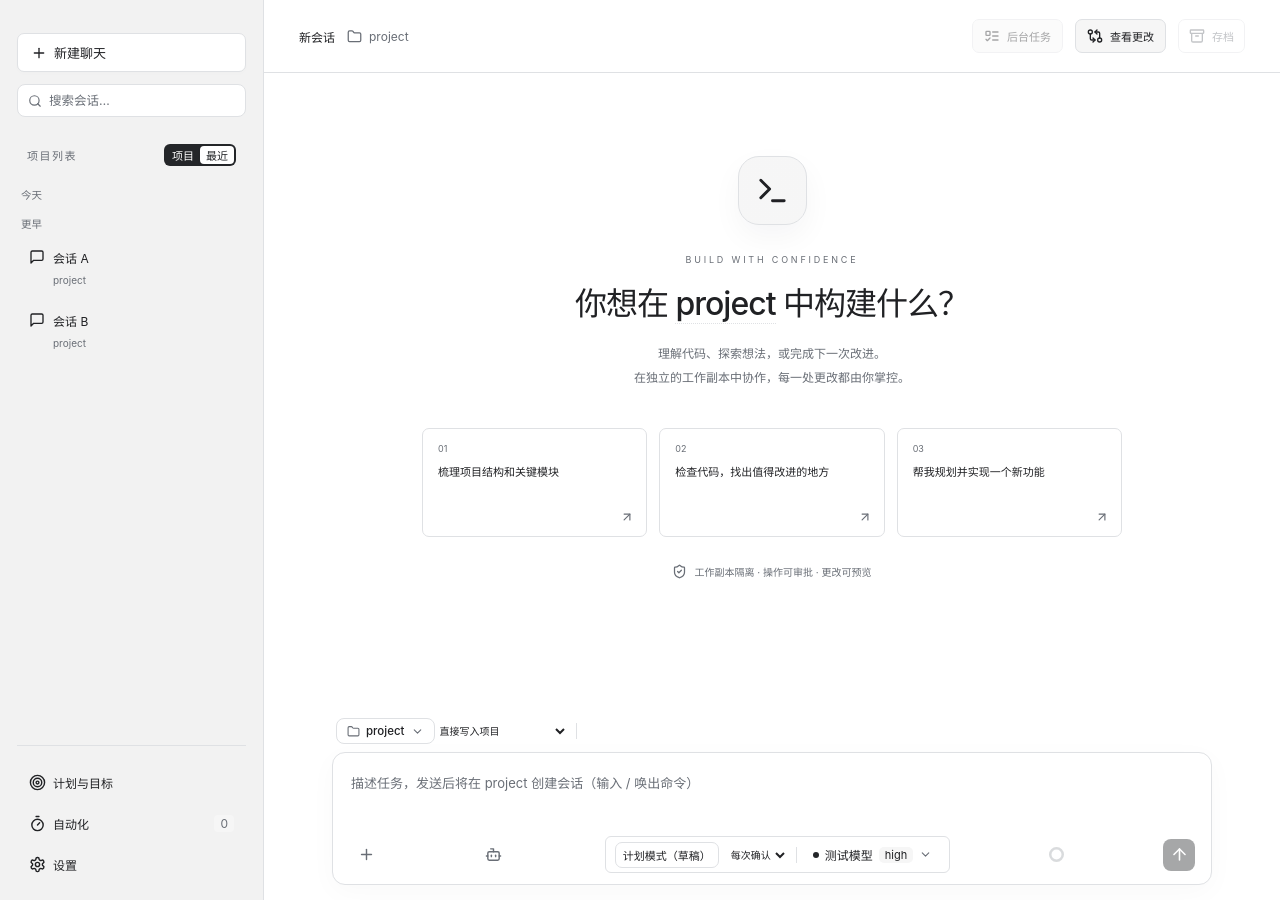
Scenario: 中断后继续 › 最近回合结束事件不在当前页时使用分页元数据
Click the button "会话 A project".
click(126, 268)  # box [17, 238, 236, 297]
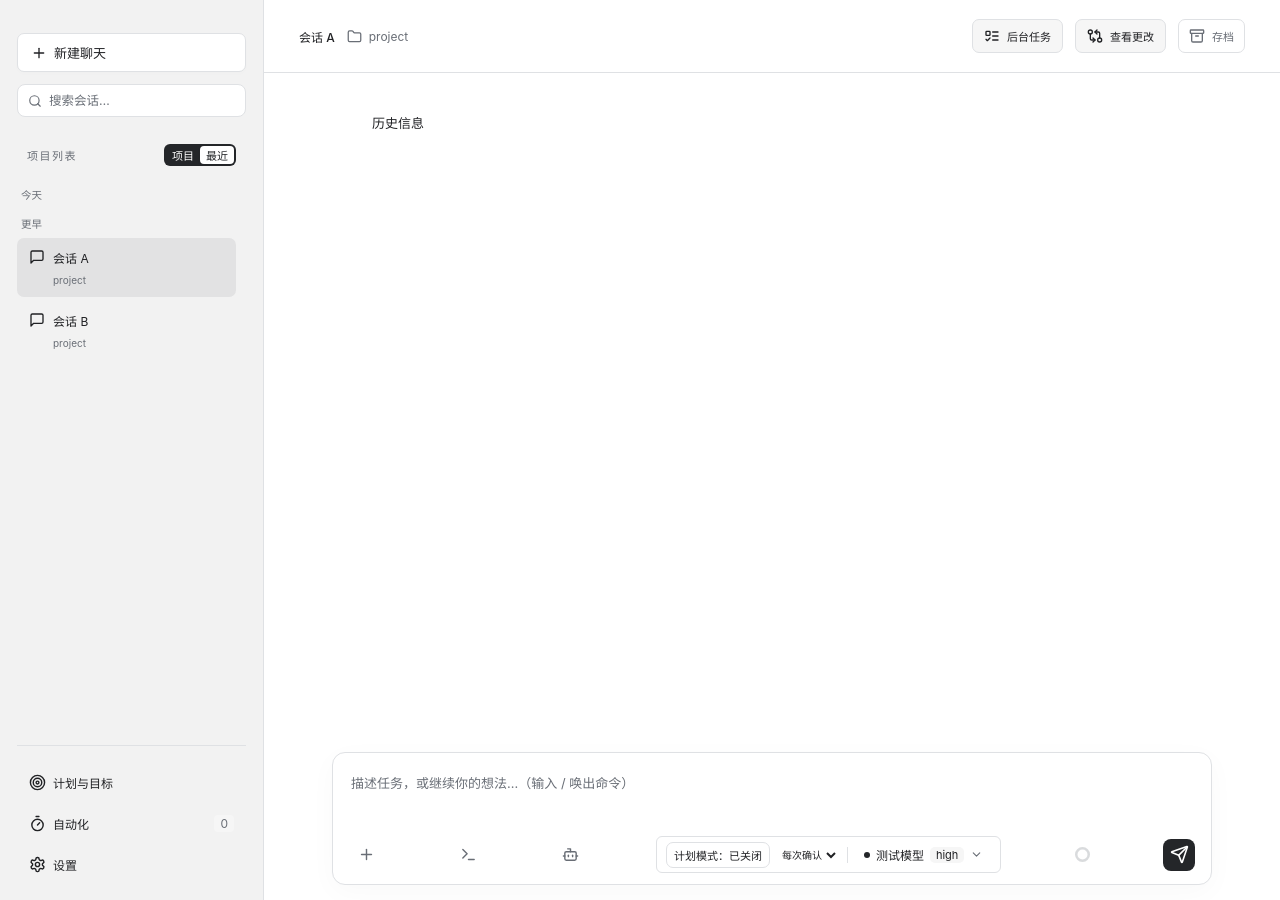
expect the text "历史信息" is shown: met, box [372, 115, 424, 131]
expect the button named "继续任务" is enabled: met, box [1163, 838, 1195, 870]
